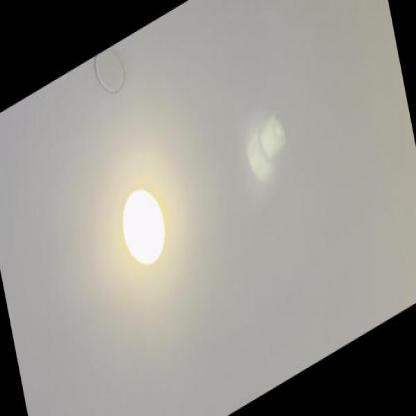light_on: (103, 148, 183, 301)
